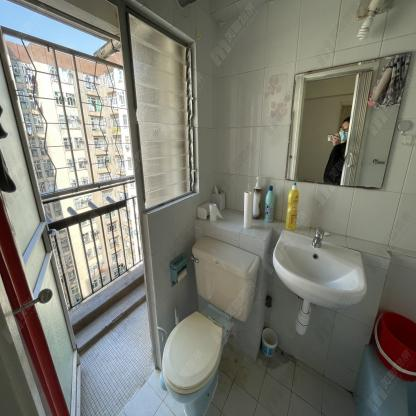Faucet: (311, 225, 325, 253)
Toilet: (160, 236, 262, 416)
Toilet Sink: (273, 228, 366, 308)
